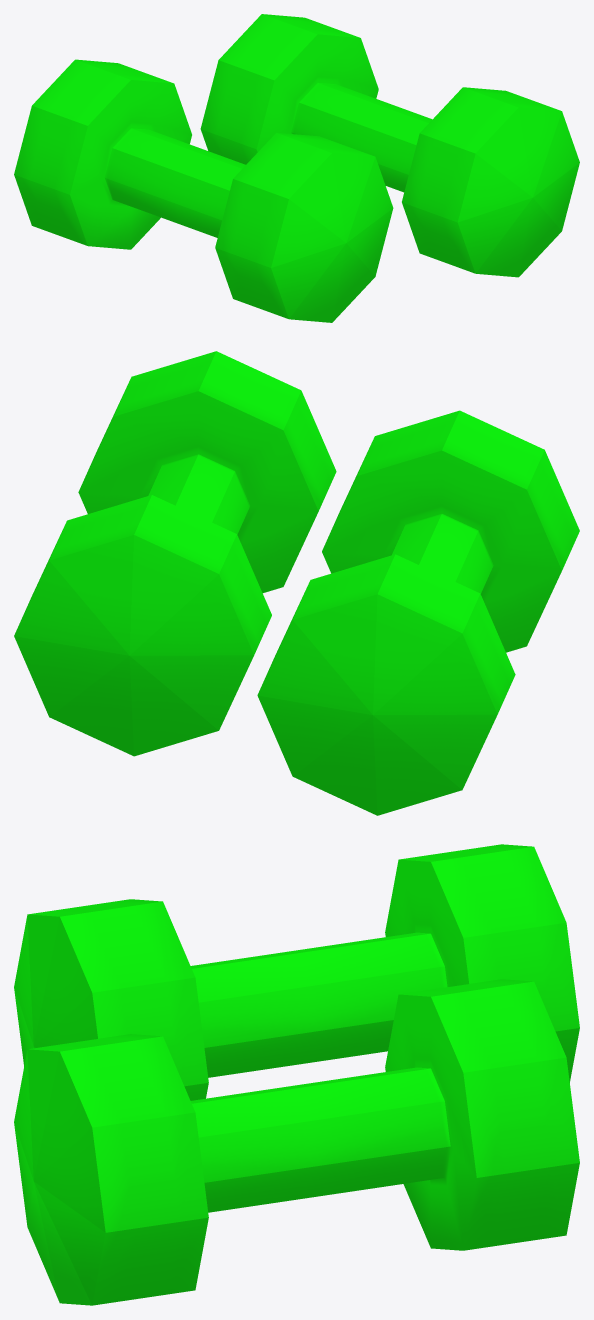
Rendered from dumbbell.glb.
3 views of the same model, one above another, from view 1: azimuth 30°, elevation 25°; view 2: azimuth 150°, elevation 25°; view 3: azimuth 270°, elevation 25° (orthographic). The views are drawn at different scales.
Visible parts, largest first — view 1: room1_dumbbell_left, room1_dumbbell_right; view 2: room1_dumbbell_right, room1_dumbbell_left; view 3: room1_dumbbell_right, room1_dumbbell_left.
Part boxes in pixels (left/top/right/bottom): room1_dumbbell_left: left=14, top=59, right=393, bottom=322; room1_dumbbell_right: left=200, top=14, right=579, bottom=277; room1_dumbbell_right: left=14, top=351, right=336, bottom=756; room1_dumbbell_left: left=257, top=410, right=579, bottom=815; room1_dumbbell_right: left=14, top=979, right=579, bottom=1305; room1_dumbbell_left: left=14, top=844, right=579, bottom=1100.
Size of the model in its own units: 0.9632 by 0.358 by 0.7296.
Materials: 1 (1 with a texture image).
